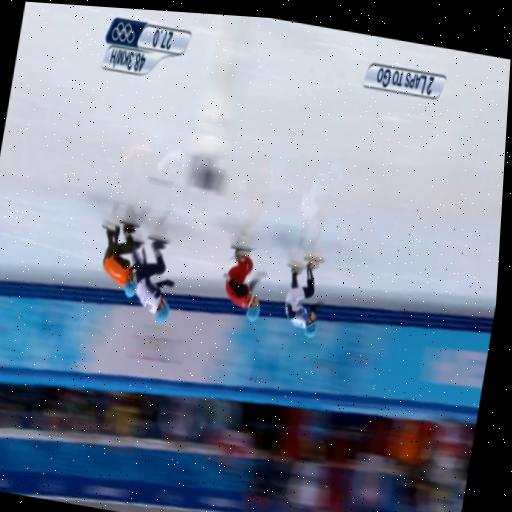Skater: (132, 238, 173, 321), (284, 257, 322, 337), (225, 246, 264, 320), (102, 222, 136, 296)
